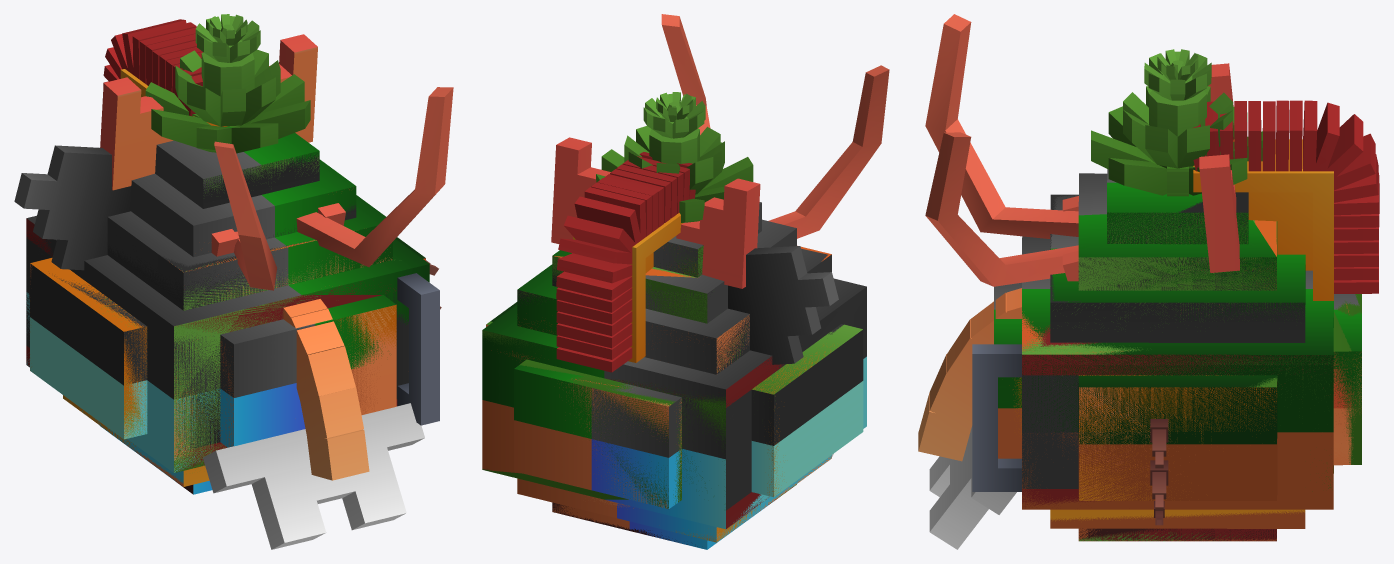
Rendered from Brainrot_Egg.fbx.
3 views of the same model, side by side, from view 1: azimuth 30°, elevation 25°; view 2: azimuth 150°, elevation 25°; view 3: azimuth 270°, elevation 25° (orthographic). The views are drawn at different scales.
Visible parts, largest first — view 1: La_Grande_Combinasion_Egg, Br br br Patapim_Egg, BrriDicusBombicus_Egg, Trippi Troppi_Egg, Orangutini Ananassini_Egg, FrigoCameri_Egg; view 2: La_Grande_Combinasion_Egg, BrriDicusBombicus_Egg, Trippi Troppi_Egg, Orangutini Ananassini_Egg, Br br br Patapim_Egg; view 3: La_Grande_Combinasion_Egg, BrriDicusBombicus_Egg, Br br br Patapim_Egg, Trippi Troppi_Egg, Orangutini Ananassini_Egg, FrigoCameri_Egg.
Boxes of the visible parts, x1,y1,x2,y2 form: La_Grande_Combinasion_Egg: [14, 126, 441, 494]; Br br br Patapim_Egg: [63, 156, 424, 549]; BrriDicusBombicus_Egg: [26, 19, 408, 486]; Trippi Troppi_Egg: [100, 34, 453, 465]; Orangutini Ananassini_Egg: [30, 14, 396, 494]; FrigoCameri_Egg: [397, 273, 439, 425]; La_Grande_Combinasion_Egg: [482, 202, 866, 549]; BrriDicusBombicus_Egg: [484, 152, 834, 542]; Trippi Troppi_Egg: [491, 14, 889, 542]; Orangutini Ananassini_Egg: [486, 92, 773, 546]; Br br br Patapim_Egg: [482, 245, 862, 508]; La_Grande_Combinasion_Egg: [994, 169, 1361, 541]; BrriDicusBombicus_Egg: [1013, 100, 1379, 541]; Br br br Patapim_Egg: [918, 212, 1361, 549]; Trippi Troppi_Egg: [925, 14, 1357, 463]; Orangutini Ananassini_Egg: [1022, 49, 1361, 541]; FrigoCameri_Egg: [972, 344, 1021, 491].
Bounding box in the file's own units: 101 × 108 × 97.68.
